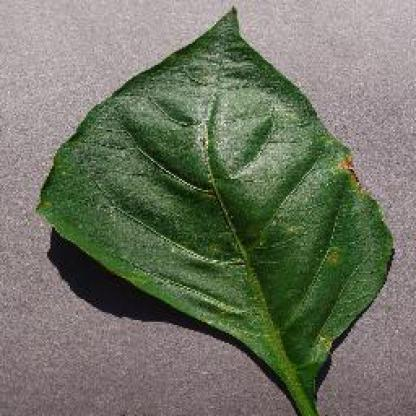bad leaf: (318, 137, 374, 202), (297, 326, 329, 372)
